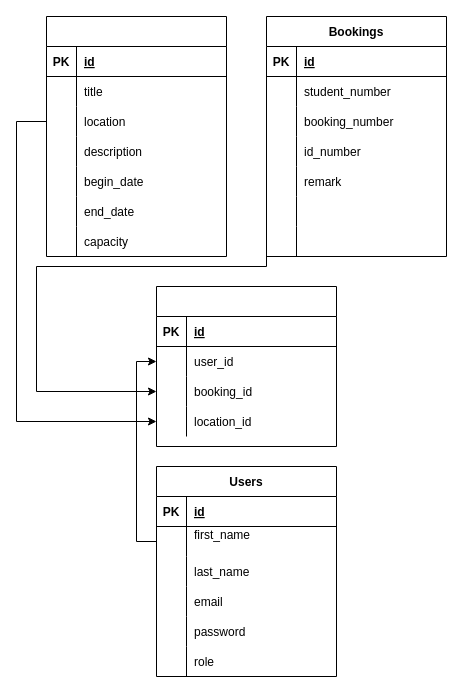
Some shapes in this 463 by 693 pixel diagram are drawn without their labels. Here are the shapes that lost their labels. From the top down, the box of each, then its label:
(46, 16, 226, 256): Locations
(156, 286, 336, 446): Registrations
